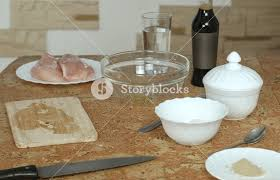Chicken: (36, 56, 94, 80)
